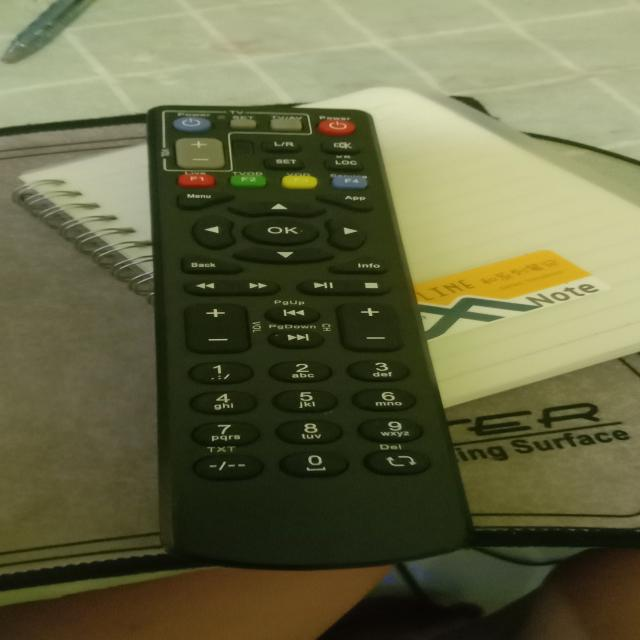remote: (158, 99, 462, 563)
